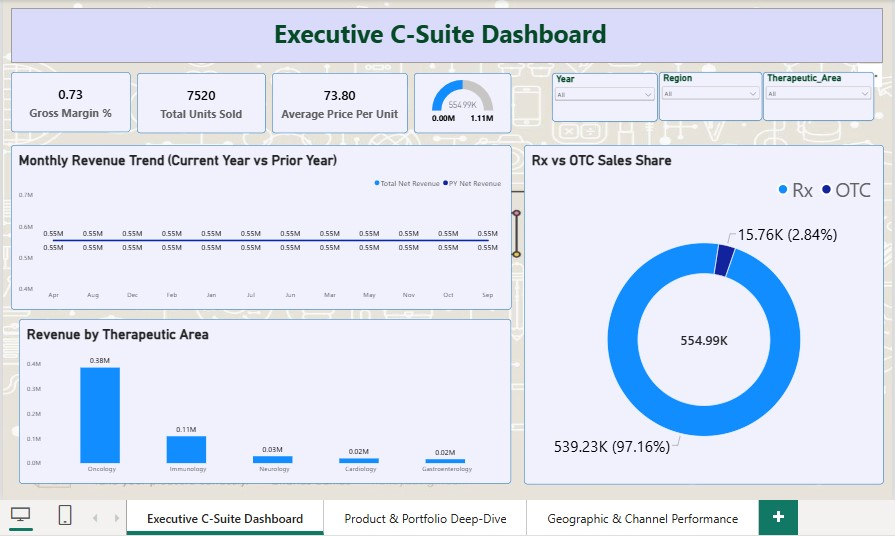

The page's visual inventory and layout, read from the dashboard file:
{"tool":"powerbi","page":{"name":"Executive C-Suite Dashboard","canvas":[1920,1080],"ordinal":0},"visuals":[{"type":"shape","box":[17.3,17.3,1883.5,118.8],"z":0},{"type":"textbox","box":[35.3,35.3,1819.9,76.6],"z":1000},{"type":"card","fields":{"Values":["Measures Table.Gross Margin %"]},"box":[17.5,155,257.5,130],"z":2000},{"type":"card","fields":{"Values":["Measures Table.Total Units Sold"]},"box":[290,157.5,277.5,130],"z":3000},{"type":"card","fields":{"Values":["Measures Table.Average Price Per Unit"]},"box":[580,157.5,292.5,130],"z":4000},{"type":"lineChart","title":"Monthly Revenue Trend (Current Year vs Prior Year)","fields":{"Y":["Measures Table.Total Net Revenue","Measures Table.PY Net Revenue"],"Category":["Dim Date.MonthName"]},"box":[17.5,312.5,1081.2,356.2],"z":5000},{"type":"columnChart","title":"Revenue by Therapeutic Area","fields":{"Category":["Dim Product.Therapeutic_Area"],"Y":["Measures Table.Total Net Revenue"]},"box":[35.3,689.1,1063.1,356.3],"z":6000},{"type":"donutChart","title":"Rx vs OTC Sales Share","fields":{"Category":["Dim Product.Rx_Type"],"Y":["Measures Table.Total Net Revenue"]},"box":[1124.9,312.1,777.4,733.3],"z":7000},{"type":"slicer","fields":{"Values":["Dim Geography.Region"]},"box":[1417.5,155,222.5,105],"z":8000},{"type":"slicer","title":"Year","fields":{"Values":["Dim Date.Year"]},"box":[1185,157.5,227.5,105],"z":9000},{"type":"slicer","fields":{"Values":["Dim Product.Therapeutic_Area"]},"box":[1642.5,155,240,105],"z":10000},{"type":"gauge","fields":{"Y":["Measures Table.Total Net Revenue"]},"box":[887.5,157.5,210,130],"z":11000}]}

Visuals, with their boxes on the page's 1920x1080 design canvas (x1, y1, x2, y2). These are canvas units, not pixel positions in the 895x536 screenshot, which may show the page scaled, cropped or inside an application window:
shape: bbox(17, 17, 1901, 136)
textbox: bbox(35, 35, 1855, 112)
card - Measures Table.Gross Margin %: bbox(18, 155, 275, 285)
card - Measures Table.Total Units Sold: bbox(290, 158, 568, 288)
card - Measures Table.Average Price Per Unit: bbox(580, 158, 872, 288)
"Monthly Revenue Trend (Current Year vs Prior Year)" lineChart: bbox(18, 312, 1099, 669)
"Revenue by Therapeutic Area" columnChart: bbox(35, 689, 1098, 1045)
"Rx vs OTC Sales Share" donutChart: bbox(1125, 312, 1902, 1045)
slicer - Dim Geography.Region: bbox(1418, 155, 1640, 260)
"Year" slicer: bbox(1185, 158, 1412, 262)
slicer - Dim Product.Therapeutic_Area: bbox(1642, 155, 1882, 260)
gauge - Measures Table.Total Net Revenue: bbox(888, 158, 1098, 288)
